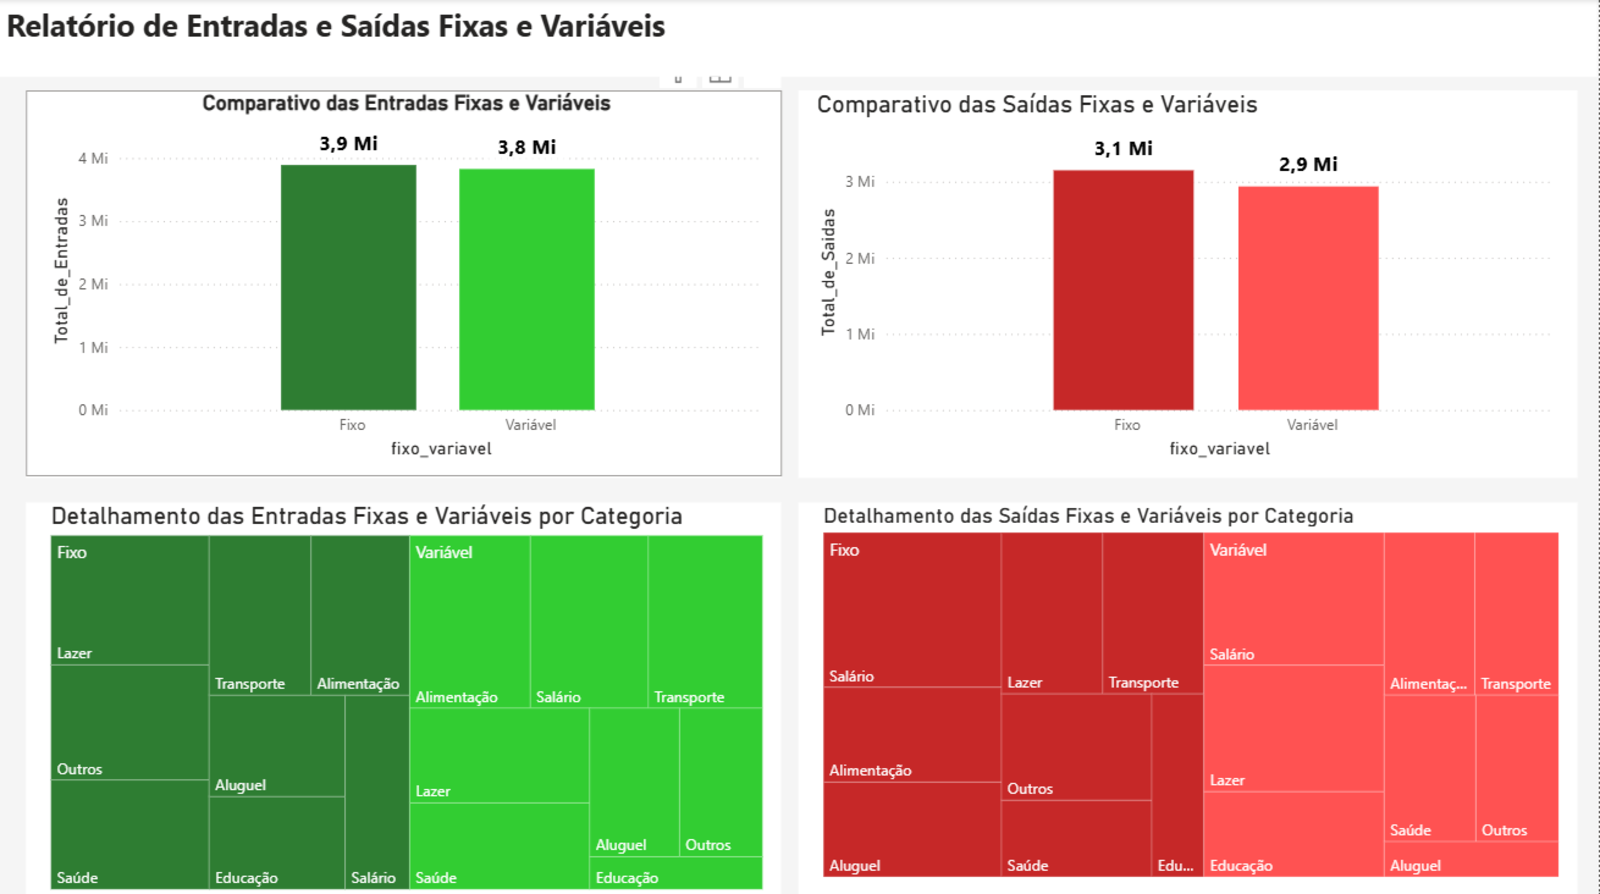

What the dashboard file says about the page in this screenshot:
{"tool":"powerbi","page":{"name":"Relatório de Entradas e Saídas Fixas e Variáveis","canvas":[1280,720],"ordinal":4},"visuals":[{"type":"lineClusteredColumnComboChart","title":"Comparativo das Saídas Fixas e Variáveis","fields":{"Category":["mini_projeto_financeiro_Clean.fixo_variavel"],"Y":["mini_projeto_financeiro_Clean.Total_de_Saidas"]},"box":[640,73,624,310],"z":0},{"type":"treemap","title":"Detalhamento das Entradas Fixas e Variáveis por Categoria","fields":{"Group":["mini_projeto_financeiro_Clean.fixo_variavel"],"Details":["mini_projeto_financeiro_Clean.categoria"],"Values":["mini_projeto_financeiro_Clean.Total_de_Entradas"]},"box":[21,403,605,315],"z":1000},{"type":"lineClusteredColumnComboChart","title":"Comparativo das Entradas Fixas e Variáveis","fields":{"Y":["mini_projeto_financeiro_Clean.Total_de_Entradas"],"Category":["mini_projeto_financeiro_Clean.fixo_variavel"]},"box":[21,73,605,310],"z":2000},{"type":"treemap","title":"Detalhamento das Saídas Fixas e Variáveis por Categoria","fields":{"Group":["mini_projeto_financeiro_Clean.fixo_variavel"],"Details":["mini_projeto_financeiro_Clean.categoria"],"Values":["mini_projeto_financeiro_Clean.Total_de_Saidas"]},"box":[640,403,624,315],"z":3000},{"type":"textbox","box":[0,0,1279,62],"z":4000}]}

Visuals, with their boxes in screenshot pixels (x1, y1, x2, y2), scaled from the page's 1280x720 canvas onto the 1600x894 screenshot:
"Comparativo das Saídas Fixas e Variáveis" lineClusteredColumnComboChart: {"x1": 800, "y1": 91, "x2": 1580, "y2": 476}
"Detalhamento das Entradas Fixas e Variáveis por Categoria" treemap: {"x1": 26, "y1": 500, "x2": 782, "y2": 892}
"Comparativo das Entradas Fixas e Variáveis" lineClusteredColumnComboChart: {"x1": 26, "y1": 91, "x2": 782, "y2": 476}
"Detalhamento das Saídas Fixas e Variáveis por Categoria" treemap: {"x1": 800, "y1": 500, "x2": 1580, "y2": 892}
textbox: {"x1": 0, "y1": 0, "x2": 1599, "y2": 77}
